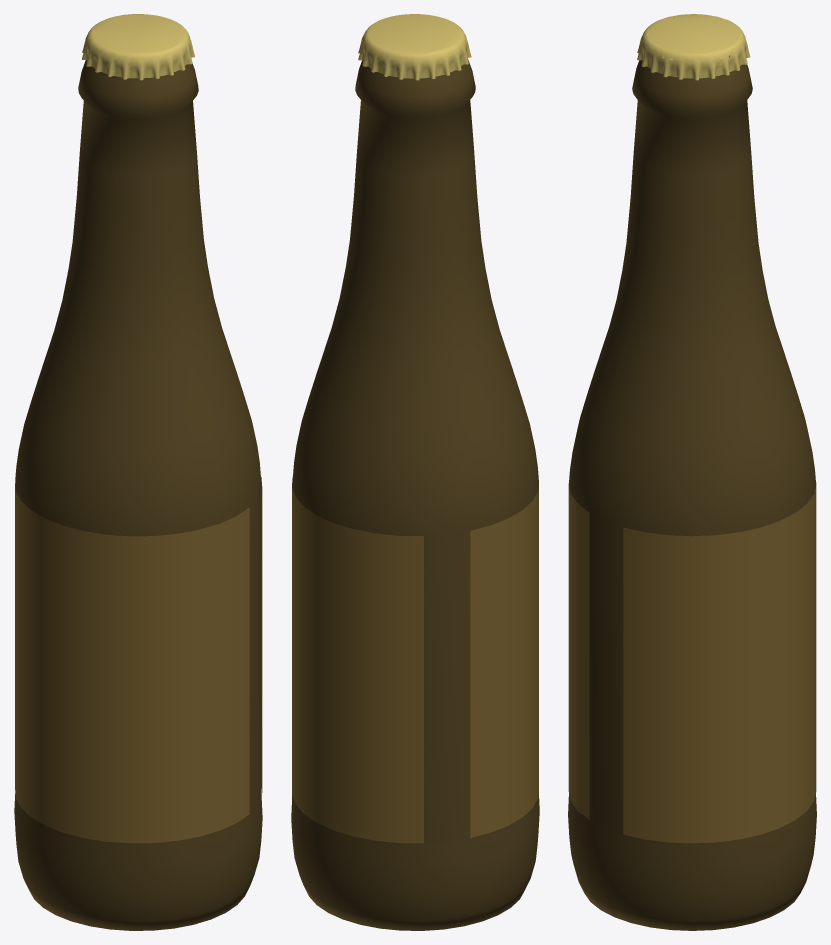
File: beerbottle_belgian.dae
3 views of the same model, side by side, from view 1: azimuth 30°, elevation 25°; view 2: azimuth 150°, elevation 25°; view 3: azimuth 270°, elevation 25° (orthographic).
Visible parts, largest first — view 1: bottle, cap; view 2: bottle, cap; view 3: bottle, cap.
Part boxes in pixels (box(x1,y1,x2,y2)): bottle: box(14, 60, 262, 930); cap: box(82, 14, 194, 80); bottle: box(291, 58, 539, 930); cap: box(358, 14, 471, 80); bottle: box(568, 60, 816, 930); cap: box(637, 14, 750, 80).
Size of the model in its own units: 0.0677 by 0.0677 by 0.2554.
